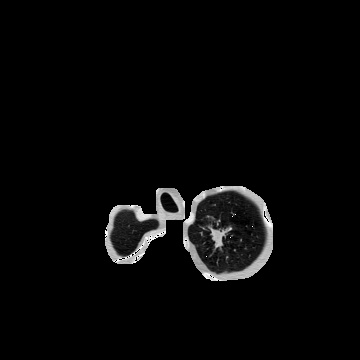PN: (210, 227, 226, 243)
